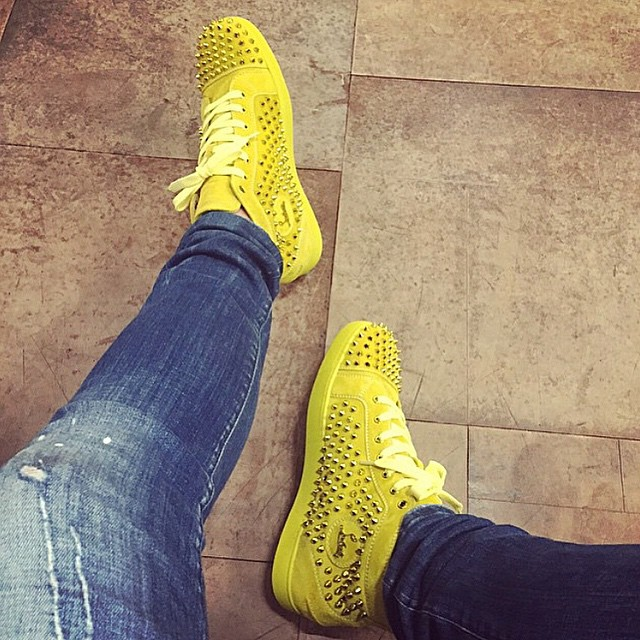sneaker: (252, 313, 484, 637), (145, 8, 339, 292)
